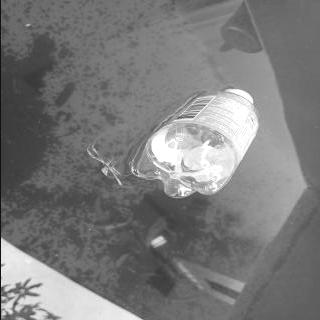bottle: (132, 89, 258, 200)
